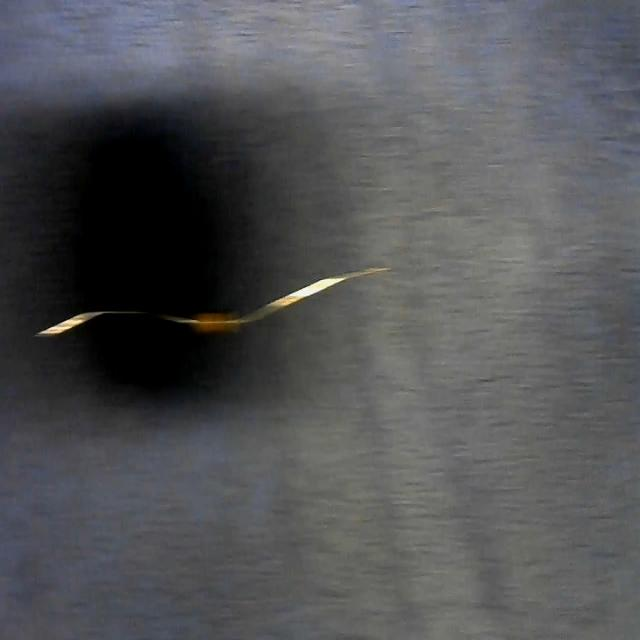resistor: (43, 267, 383, 342)
